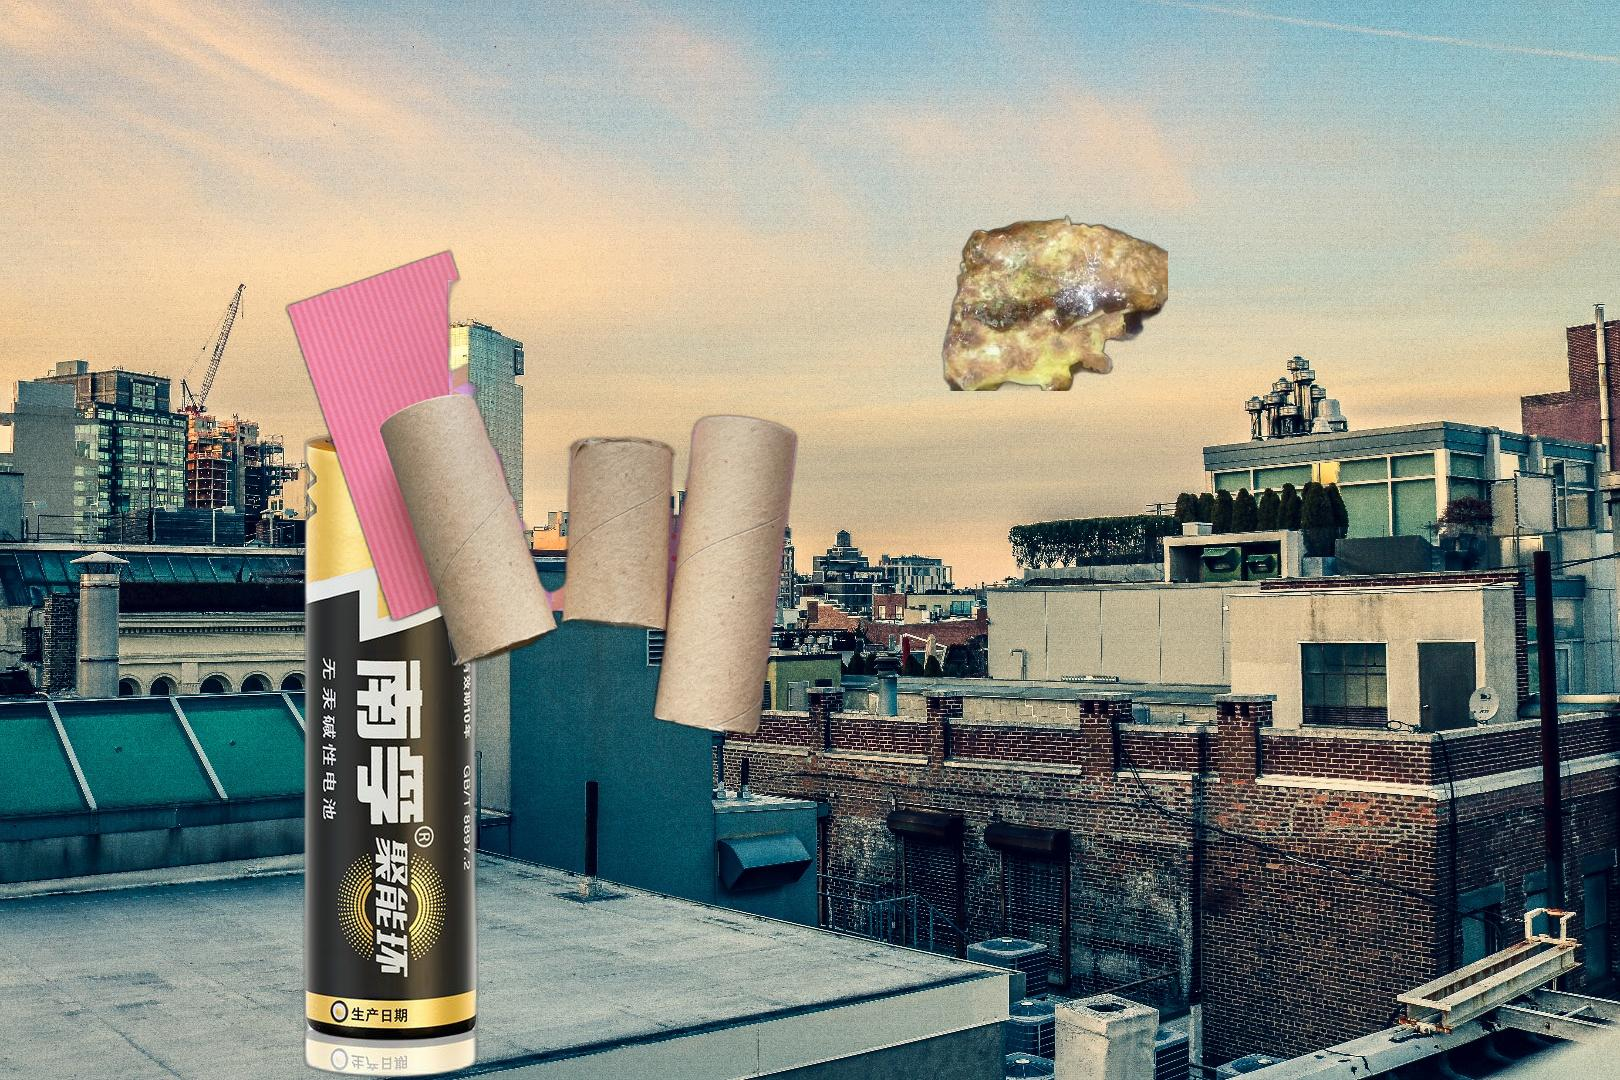battery: (297, 411, 945, 1080)
biological: (939, 213, 1168, 391)
metal-cans: (157, 932, 493, 1080)
trashbox-cardboard: (278, 224, 803, 741)
